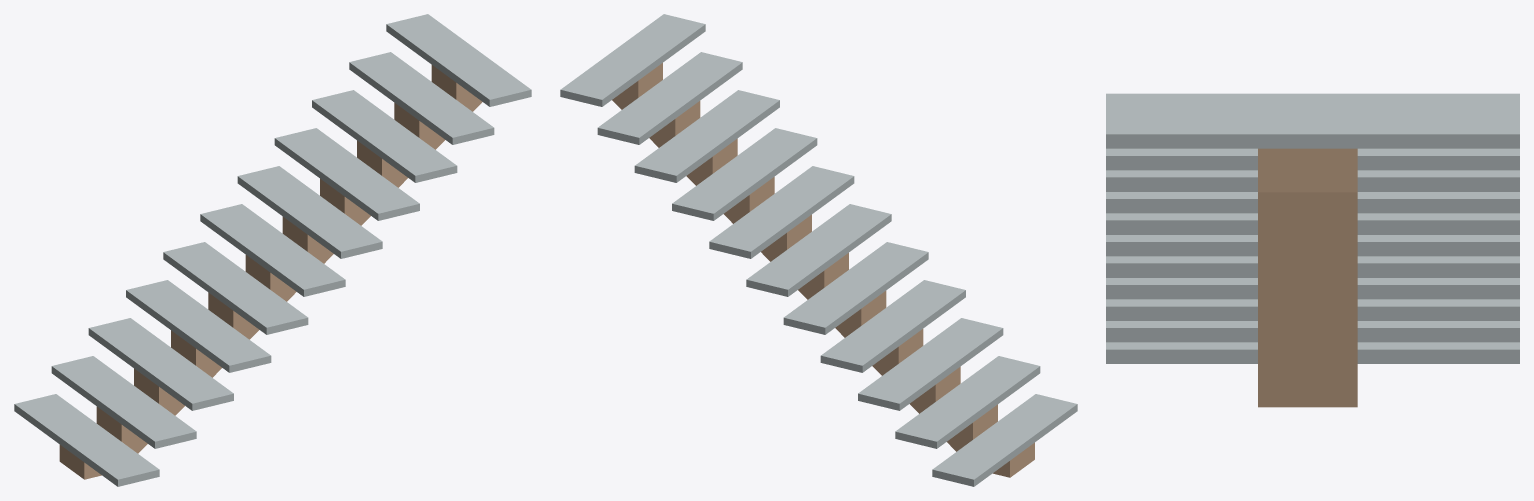
The model's file is stairsOpenSingle.glb.
The picture shows the model from 3 angles, left to right: view 1: azimuth 30°, elevation 25°; view 2: azimuth 150°, elevation 25°; view 3: azimuth 270°, elevation 25°; orthographic projection. The views are drawn at different scales.
Visible parts, largest first — view 1: stairsOpenSingle; view 2: stairsOpenSingle; view 3: stairsOpenSingle.
Boxes of the visible parts, x1,y1,x2,y2 form: stairsOpenSingle: (14, 14, 531, 486); stairsOpenSingle: (560, 14, 1077, 486); stairsOpenSingle: (1106, 93, 1519, 407).
Bounding box in the file's own units: 1.82 × 1.34 × 0.79.
